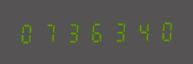four: (127, 19, 148, 43)
seven: (39, 20, 60, 44)
six: (83, 20, 104, 43)
three: (61, 20, 82, 44), (105, 19, 126, 43)
zero: (17, 21, 38, 45), (149, 19, 170, 42)
